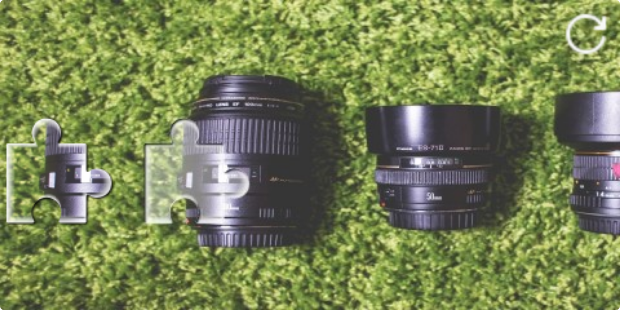target: (145, 119, 249, 224)
